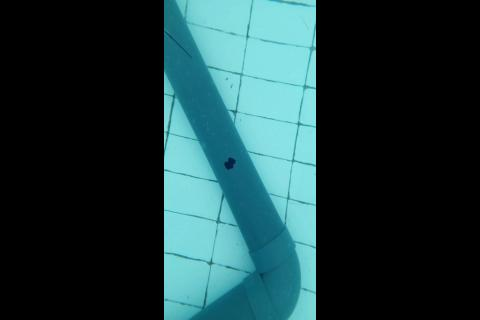kebocoran: (223, 156, 236, 171)
keretakan: (164, 29, 193, 59)
